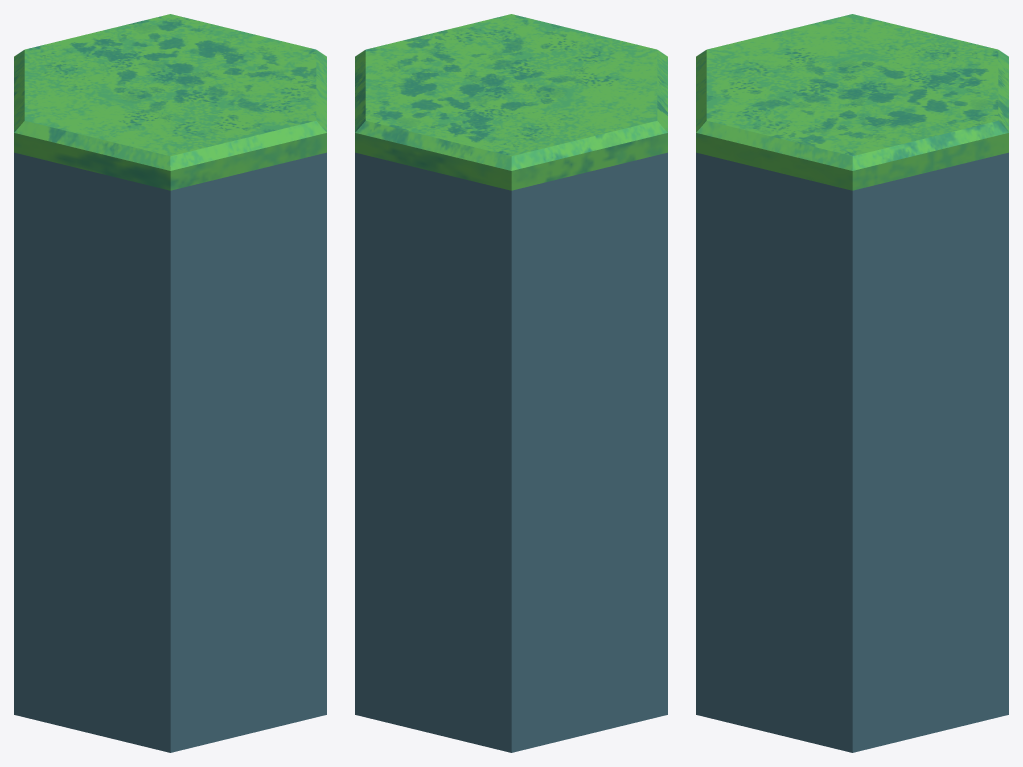
Rendered from Terrain.fbx.
3 renders of one model, left to right at view 1: azimuth 30°, elevation 25°; view 2: azimuth 150°, elevation 25°; view 3: azimuth 270°, elevation 25°, orthographic.
Visible parts, largest first — view 1: Terrain_LOD0; view 2: Terrain_LOD0; view 3: Terrain_LOD0.
Boxes of the visible parts, bbox=[...] form: Terrain_LOD0: bbox=[14, 14, 326, 752]; Terrain_LOD0: bbox=[355, 14, 667, 752]; Terrain_LOD0: bbox=[696, 14, 1008, 752].
Size of what is drawn, in the model's own units: 500 by 904 by 433.
